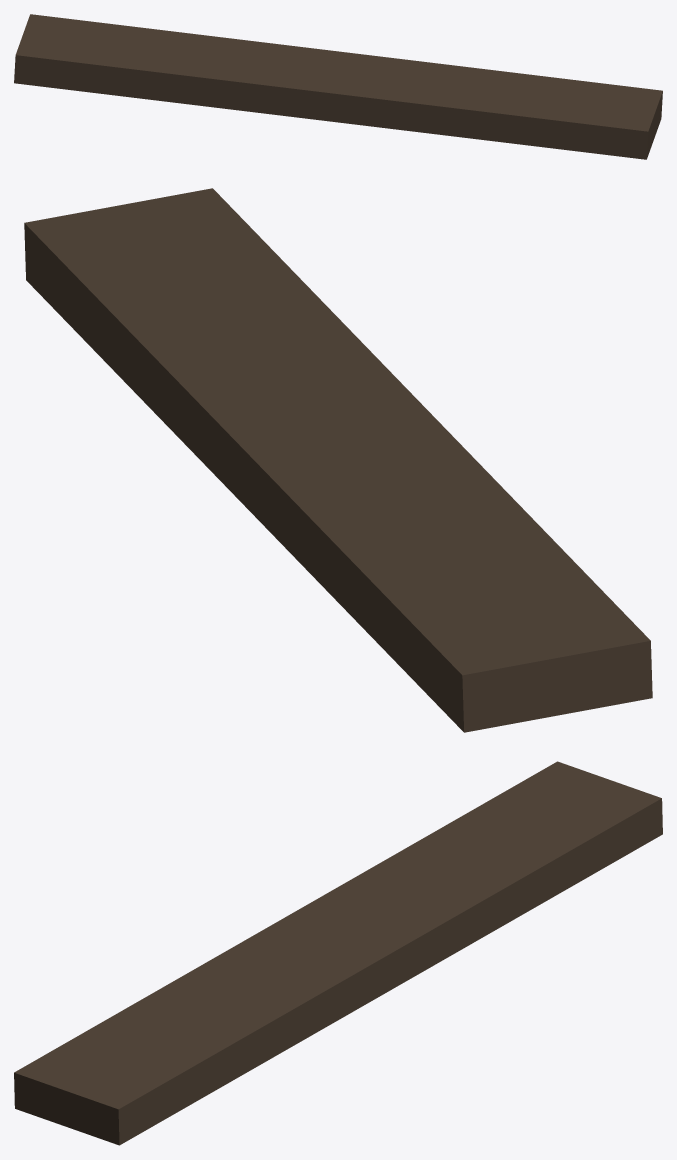
The model's file is Fireplace_modern_Log6.FBX.
3 renders of one model, top to bottom at view 1: azimuth 30°, elevation 25°; view 2: azimuth 150°, elevation 25°; view 3: azimuth 270°, elevation 25°, orthographic. The views are drawn at different scales.
Visible parts, largest first — view 1: Fireplace_modern_Log6; view 2: Fireplace_modern_Log6; view 3: Fireplace_modern_Log6.
Part boxes in pixels (left/top/right/bottom): Fireplace_modern_Log6: left=14, top=14, right=662, bottom=159; Fireplace_modern_Log6: left=24, top=188, right=652, bottom=732; Fireplace_modern_Log6: left=14, top=761, right=662, bottom=1145.
Size of the model in its own units: 33.25 by 3.87 by 29.54.
Materials: 1 (1 with a texture image).
